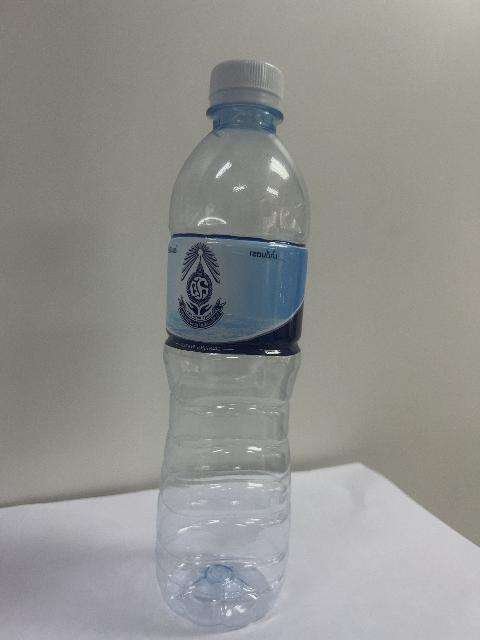bottle: (156, 60, 308, 627)
